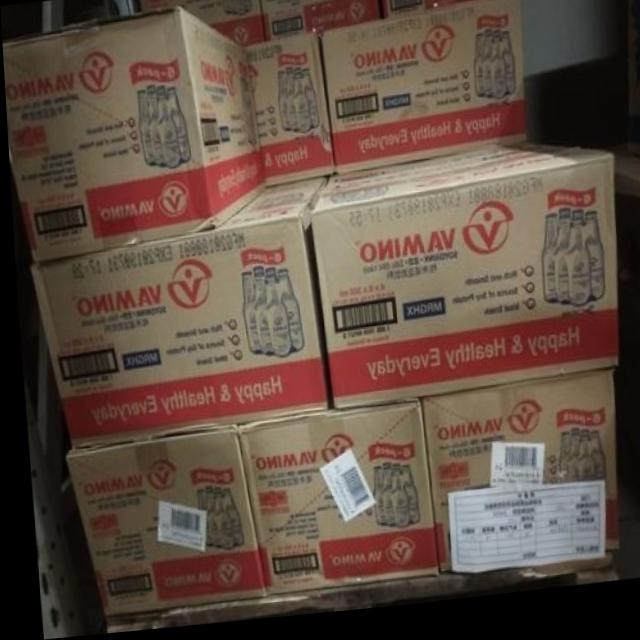box: (29, 181, 329, 450), (307, 152, 613, 415), (2, 10, 263, 264), (415, 379, 611, 580), (230, 405, 432, 597), (61, 426, 256, 618), (320, 0, 526, 179), (245, 37, 332, 192), (134, 0, 262, 51), (258, 0, 381, 46), (379, 0, 507, 26)
